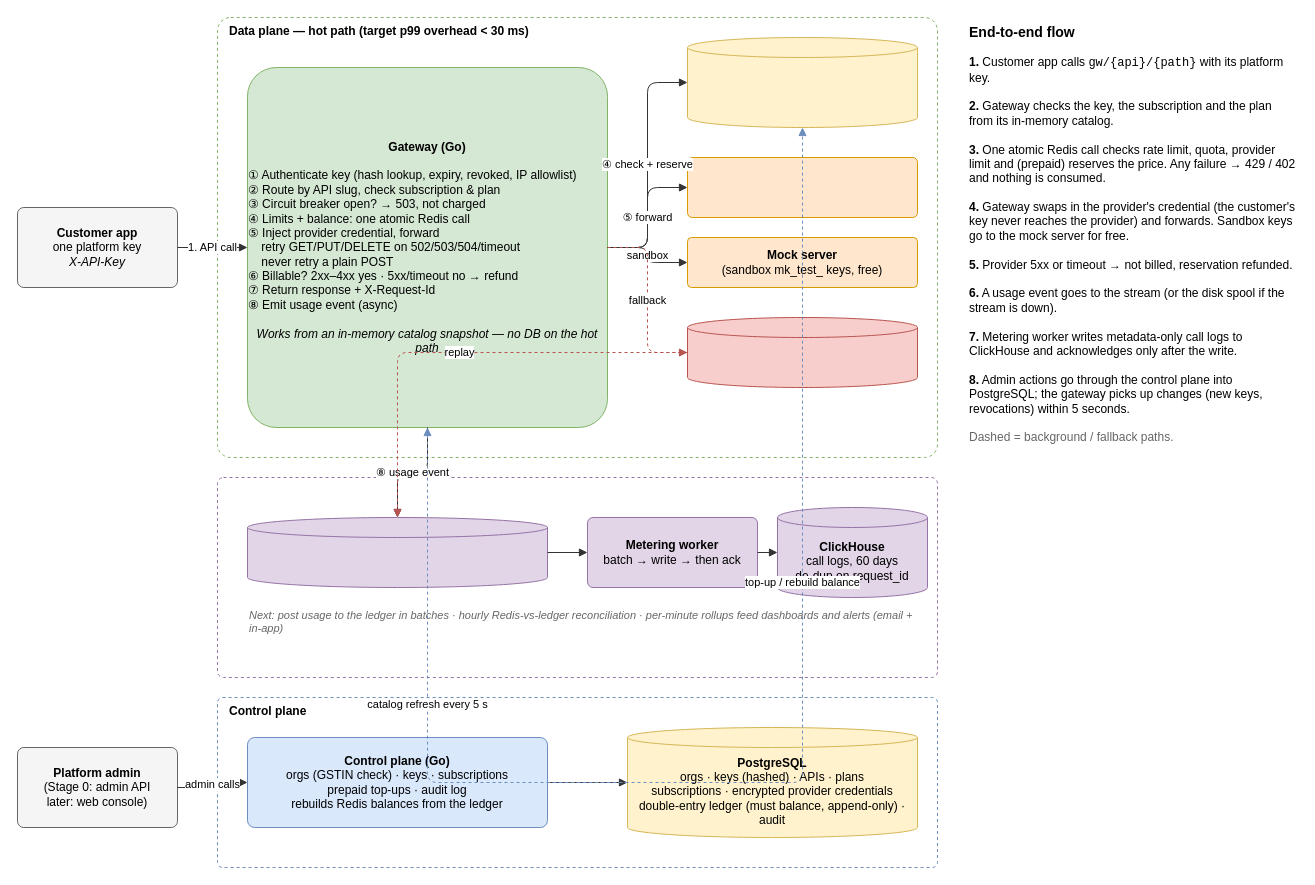
The diagram is 1315 pixels wide and 885 high, and some of its shapes have lost their labels. The box of each missing label's shape, as (x1, y1, x2, y2) in pixels:
Disk spool if the stream is down; replayed later: (686, 316, 918, 388)
Metering — off the hot path: (216, 476, 938, 678)
Provider API (production keys, billed): (686, 156, 918, 218)
Redis rate limit · monthly quota provider limit · prepaid balance: (686, 36, 918, 128)
Usage stream Redis Streams (Stage 0–1) → Kinesis (Stage 2): (246, 516, 548, 588)
